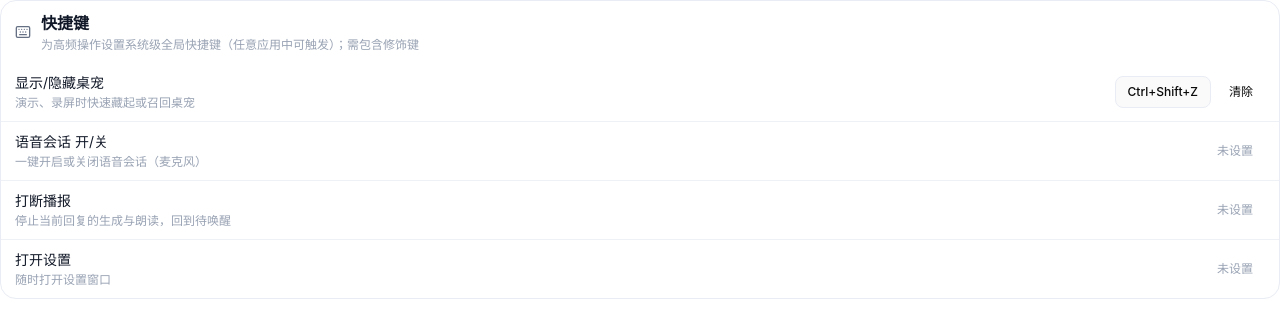
Test case: ShortcutsSection › 清除：调 clear_shortcut 并回到未设置
This screenshot has width=1280, height=316.
Click the button with aria-label "清除 显示/隐藏桌宠 快捷键".
click(1241, 92)  # box [1217,76,1265,108]
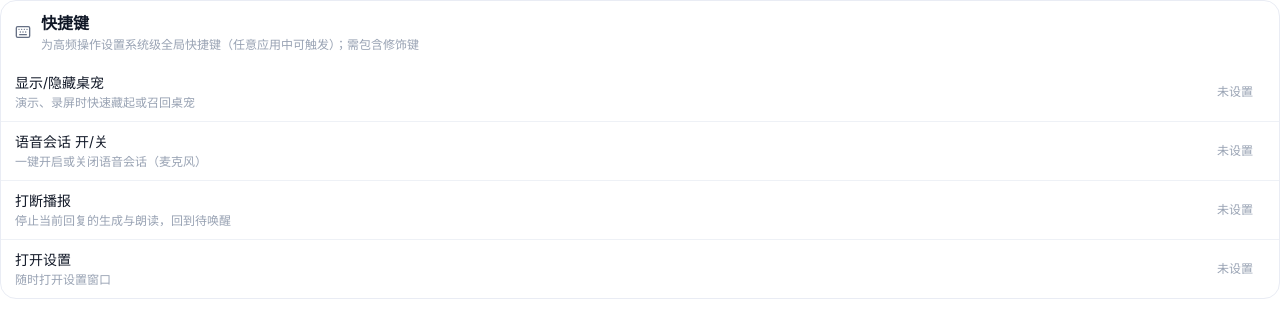
Expected: the button with aria-label "设置 显示/隐藏桌宠 快捷键" reads "未设置", [1205,76,1265,108]
